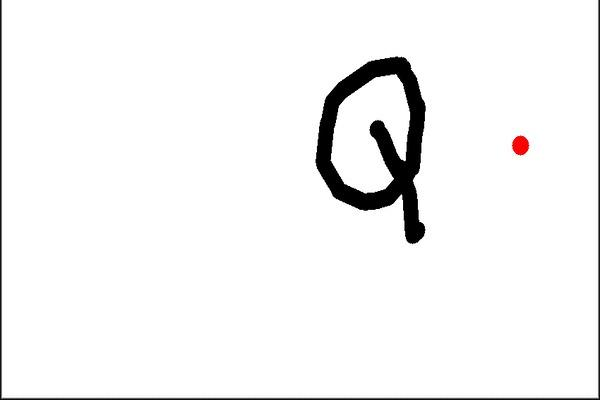Q: (302, 39, 445, 254)
